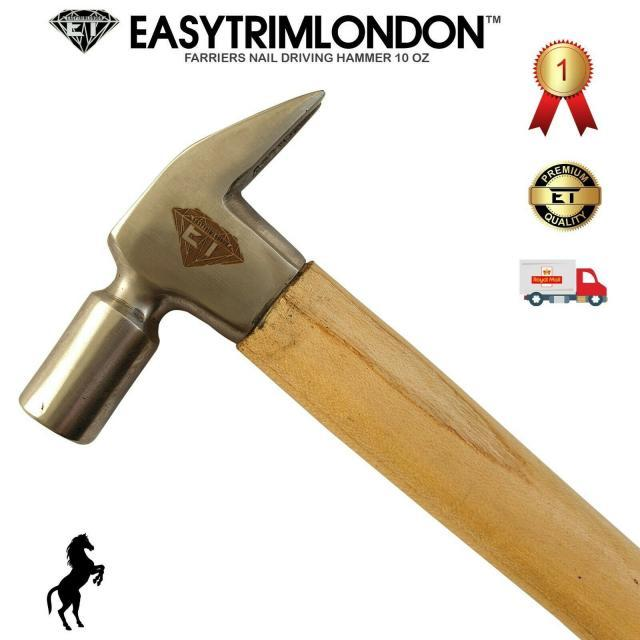hammer: (19, 85, 640, 640)
